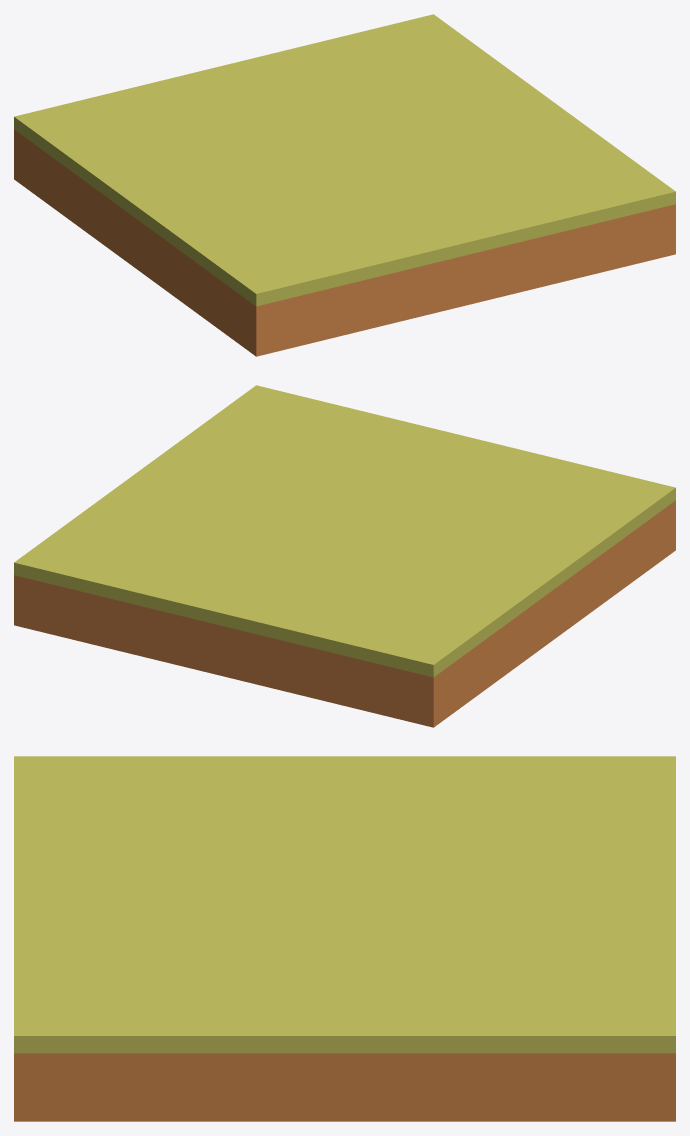
Rendered from plaine.glb.
The picture shows the model from 3 angles, top to bottom: view 1: azimuth 30°, elevation 25°; view 2: azimuth 150°, elevation 25°; view 3: azimuth 270°, elevation 25°; orthographic projection. The views are drawn at different scales.
Parts seen in each view (by area): view 1: mergedBlocks(Clone); view 2: mergedBlocks(Clone); view 3: mergedBlocks(Clone).
Boxes of the visible parts, x1,y1,x2,y2 form: mergedBlocks(Clone): [14, 14, 675, 356]; mergedBlocks(Clone): [14, 385, 675, 727]; mergedBlocks(Clone): [14, 756, 675, 1121].
Bounding box in the file's own units: 7 × 1 × 7.
Materials: 1 (1 with a texture image).
